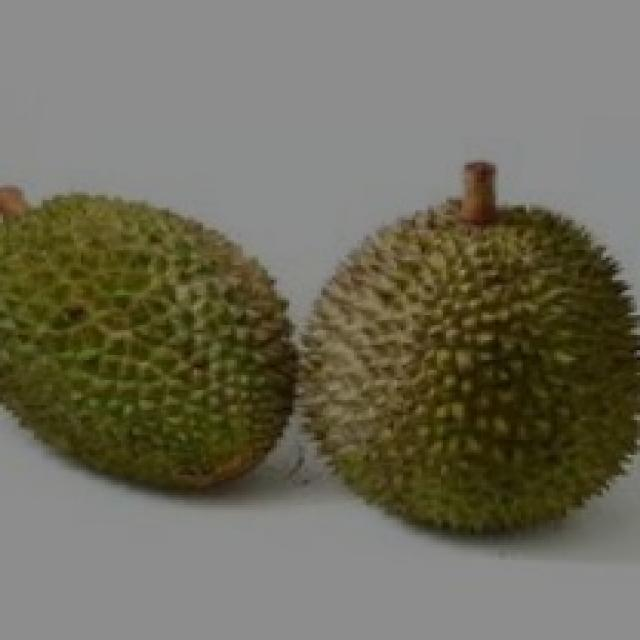fruit: (258, 175, 640, 580), (0, 160, 326, 528)
